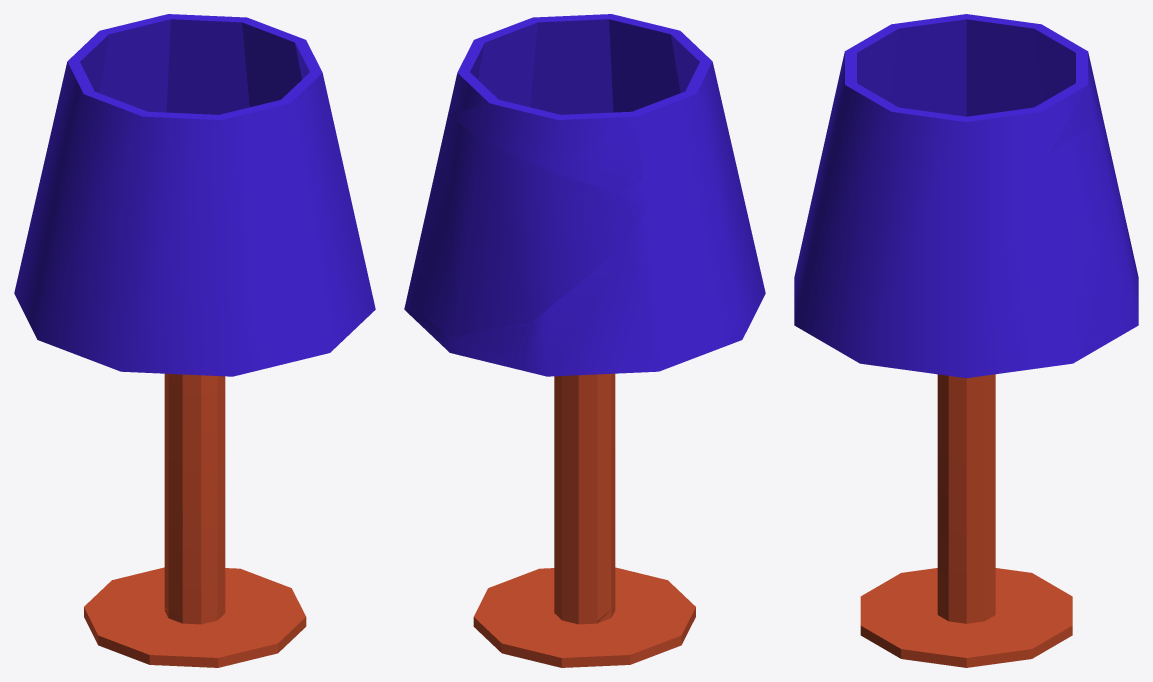
Rendered from P_Lampe_Colored_Breakable.fbx.
3 views of the same model, side by side, from view 1: azimuth 30°, elevation 25°; view 2: azimuth 150°, elevation 25°; view 3: azimuth 270°, elevation 25° (orthographic).
Parts seen in each view (by area): view 1: P_Lampe_Colored_Breakable, P_Lampe_Colored_Breakable_cell.010, P_Lampe_Colored_Breakable_cell.012, P_Lampe_Colored_Breakable_cell.023, P_Lampe_Colored_Breakable_cell.028, P_Lampe_Colored_Breakable_cell.013; view 2: P_Lampe_Colored_Breakable, P_Lampe_Colored_Breakable_cell.023, P_Lampe_Colored_Breakable_cell.012, P_Lampe_Colored_Breakable_cell.001, P_Lampe_Colored_Breakable_cell.010, P_Lampe_Colored_Breakable_cell.004, P_Lampe_Colored_Breakable_cell.009, P_Lampe_Colored_Breakable_cell.013, P_Lampe_Colored_Breakable_cell.015, P_Lampe_Colored_Breakable_cell.028, P_Lampe_Colored_Breakable_cell.024, P_Lampe_Colored_Breakable_cell.006 (+1 smaller); view 3: P_Lampe_Colored_Breakable, P_Lampe_Colored_Breakable_cell.023, P_Lampe_Colored_Breakable_cell.012, P_Lampe_Colored_Breakable_cell.011, P_Lampe_Colored_Breakable_cell.010, P_Lampe_Colored_Breakable_cell.002, P_Lampe_Colored_Breakable_cell.020, P_Lampe_Colored_Breakable_cell.004, P_Lampe_Colored_Breakable_cell.015.
Part boxes in pixels (x1,y1,x2,y2): P_Lampe_Colored_Breakable: [14, 14, 375, 667]; P_Lampe_Colored_Breakable_cell.010: [242, 22, 293, 78]; P_Lampe_Colored_Breakable_cell.012: [164, 373, 168, 607]; P_Lampe_Colored_Breakable_cell.023: [246, 65, 275, 107]; P_Lampe_Colored_Breakable_cell.028: [268, 71, 302, 100]; P_Lampe_Colored_Breakable_cell.013: [276, 43, 307, 78]; P_Lampe_Colored_Breakable: [407, 14, 765, 660]; P_Lampe_Colored_Breakable_cell.023: [407, 115, 636, 337]; P_Lampe_Colored_Breakable_cell.012: [473, 374, 611, 660]; P_Lampe_Colored_Breakable_cell.001: [520, 236, 658, 376]; P_Lampe_Colored_Breakable_cell.010: [448, 44, 642, 192]; P_Lampe_Colored_Breakable_cell.004: [584, 33, 693, 113]; P_Lampe_Colored_Breakable_cell.009: [511, 19, 664, 52]; P_Lampe_Colored_Breakable_cell.013: [475, 33, 593, 78]; P_Lampe_Colored_Breakable_cell.015: [412, 310, 528, 364]; P_Lampe_Colored_Breakable_cell.028: [477, 61, 584, 102]; P_Lampe_Colored_Breakable_cell.024: [511, 80, 597, 114]; P_Lampe_Colored_Breakable_cell.006: [533, 610, 681, 667]; P_Lampe_Colored_Breakable: [794, 14, 1135, 667]; P_Lampe_Colored_Breakable_cell.023: [1047, 99, 1135, 350]; P_Lampe_Colored_Breakable_cell.012: [966, 374, 1072, 667]; P_Lampe_Colored_Breakable_cell.011: [871, 19, 1018, 89]; P_Lampe_Colored_Breakable_cell.010: [1008, 26, 1098, 155]; P_Lampe_Colored_Breakable_cell.002: [894, 83, 1030, 116]; P_Lampe_Colored_Breakable_cell.020: [978, 61, 1043, 107]; P_Lampe_Colored_Breakable_cell.004: [857, 45, 897, 104]; P_Lampe_Colored_Breakable_cell.015: [1084, 248, 1138, 356].
Size of the model in its own units: 112 by 188 by 106.
